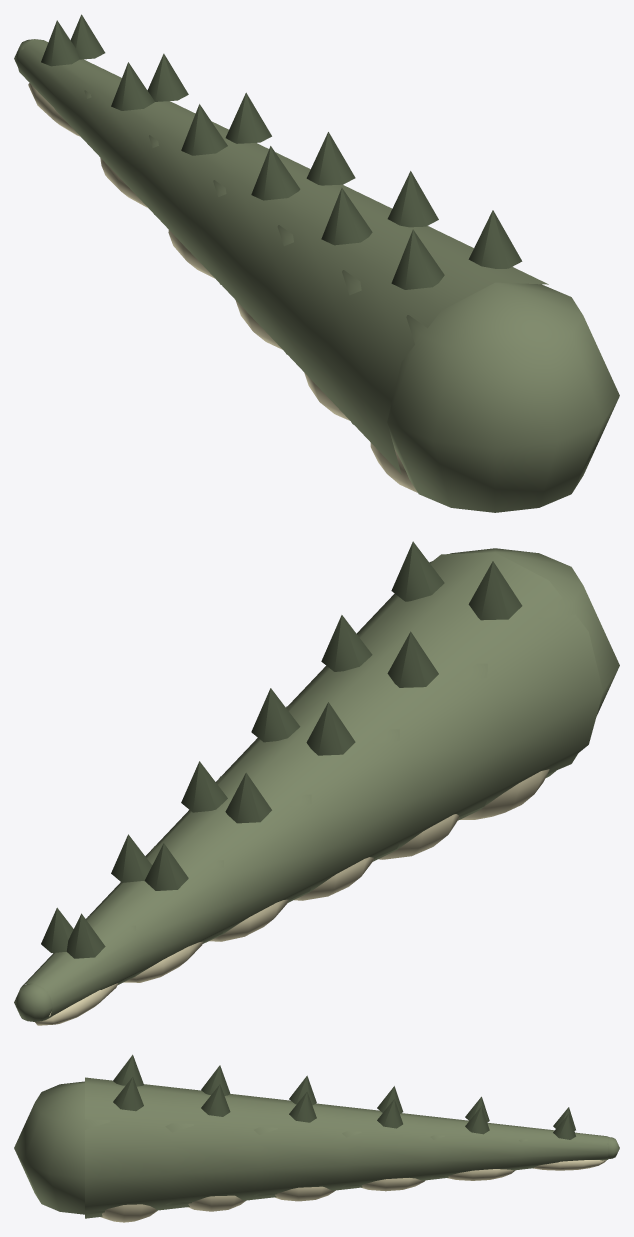
The model's file is crocodile_tail.glb.
3 renders of one model, top to bottom at view 1: azimuth 30°, elevation 25°; view 2: azimuth 150°, elevation 25°; view 3: azimuth 270°, elevation 25°, orthographic. The views are drawn at different scales.
Visible parts, largest first — view 1: crocodile_tail, crocodile_tail_seg_02, crocodile_tail_seg_03, crocodile_tail_seg_04, crocodile_tail_seg_05, crocodile_tail_seg_06; view 2: crocodile_tail, crocodile_tail_seg_02, crocodile_tail_seg_03, crocodile_tail_seg_04, crocodile_tail_seg_05, crocodile_tail_seg_06; view 3: crocodile_tail, crocodile_tail_seg_02, crocodile_tail_seg_03, crocodile_tail_seg_04, crocodile_tail_seg_05, crocodile_tail_seg_06.
Part boxes in pixels (x1,y1,x2,y2): crocodile_tail: (325, 210, 619, 512); crocodile_tail_seg_02: (263, 171, 463, 420); crocodile_tail_seg_03: (202, 132, 379, 349); crocodile_tail_seg_04: (140, 92, 295, 278); crocodile_tail_seg_05: (78, 53, 195, 207); crocodile_tail_seg_06: (14, 14, 121, 138); crocodile_tail: (356, 541, 619, 819); crocodile_tail_seg_02: (286, 615, 511, 859); crocodile_tail_seg_03: (216, 688, 419, 900); crocodile_tail_seg_04: (147, 761, 327, 941); crocodile_tail_seg_05: (86, 834, 236, 982); crocodile_tail_seg_06: (14, 907, 144, 1025); crocodile_tail: (14, 1054, 193, 1222); crocodile_tail_seg_02: (172, 1065, 277, 1211); crocodile_tail_seg_03: (255, 1075, 361, 1201); crocodile_tail_seg_04: (346, 1086, 444, 1191); crocodile_tail_seg_05: (433, 1096, 528, 1180); crocodile_tail_seg_06: (521, 1107, 619, 1170).
Size of the model in its own units: 0.42 by 0.4905 by 1.79.
1 material, 1 textured.
